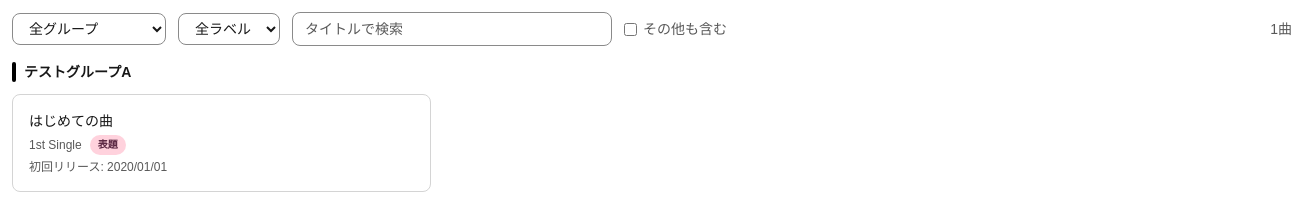
Test case: SongBrowser のEmpty分岐 › queryもresetで空文字へ戻る
Type "一致しない検索語" into the search field named "楽曲タイトルで検索" at (452, 29), box [292,12,612,46]
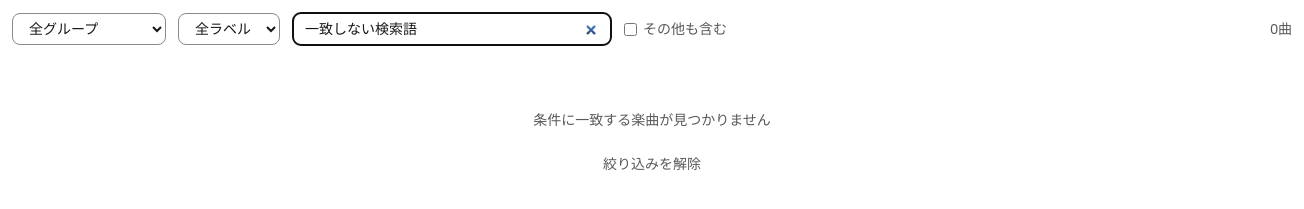
Now the text "条件に一致する楽曲が見つかりません" is shown, box [533,112,771,128]
Click the button "絞り込みを解除" at (652, 164), box [587,142,717,186]
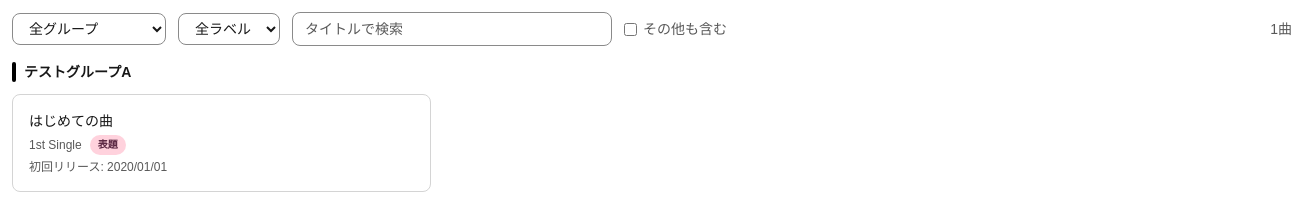
Now the text "条件に一致する楽曲が見つかりません" is gone
Now the search field named "楽曲タイトルで検索" is empty, box [292,12,612,46]
